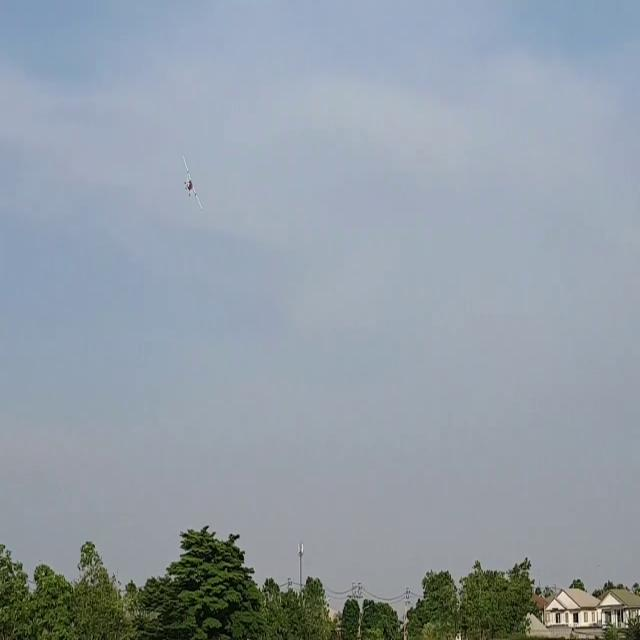iha: (181, 155, 201, 213)
